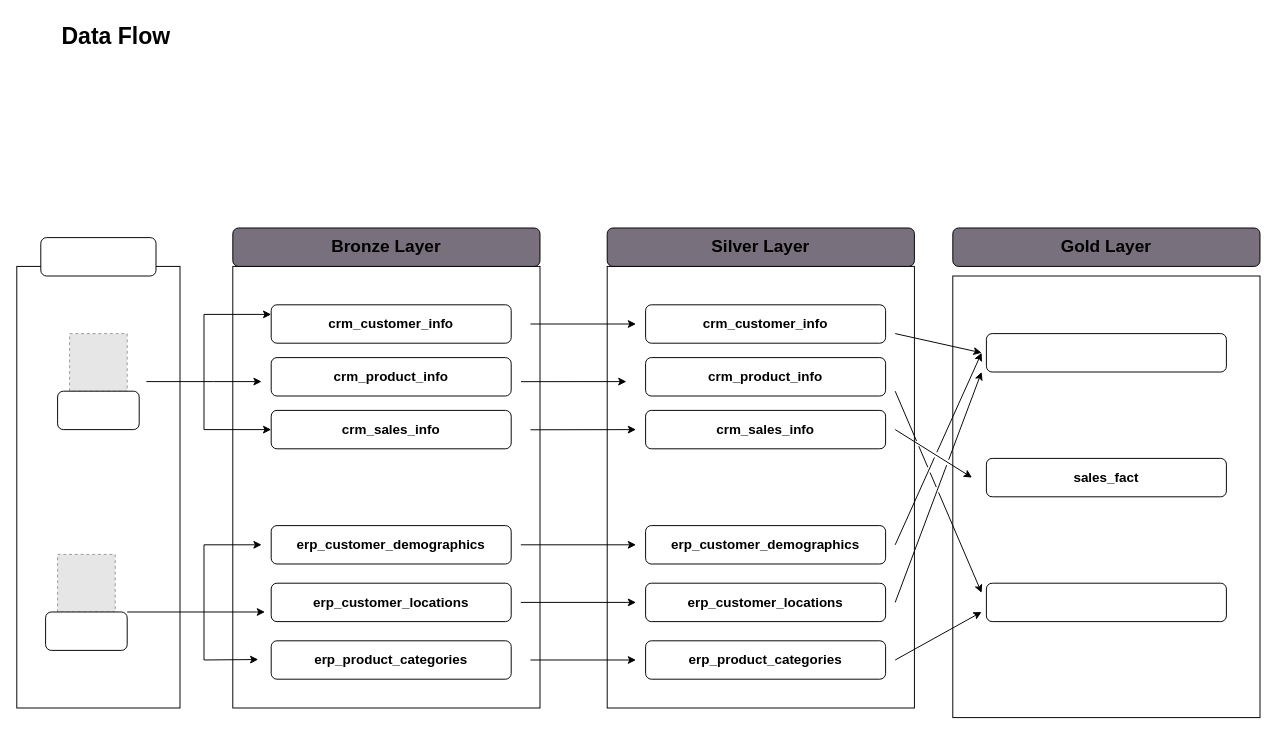
The diagram is 1277 pixels wide and 734 high, and some of its shapes have lost their labels. Grey dashed boxes stand in for pictures. Each missing label, with the box of its shape:
CRM: (57, 390, 139, 430)
customers_dim: (985, 333, 1226, 372)
ERP: (45, 611, 127, 650)
product_dim: (985, 582, 1226, 622)
Sources: (40, 237, 156, 276)
